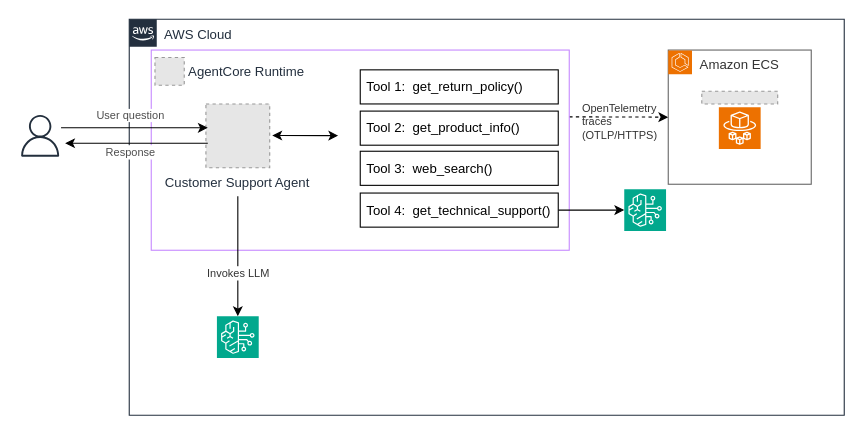
Some shapes in this 864 by 435 pixel diagram are drawn without their labels. Grey dashed boxes stand in for pictures. The shapes that lost their labels are listed below. From the top down, each one's centre as x and y in pixels, then its label:
the point at 739,127: AWS Fargate
the point at 644,209: Amazon Bedrock Knowledge Base
the point at 237,336: Amazon Bedrock
